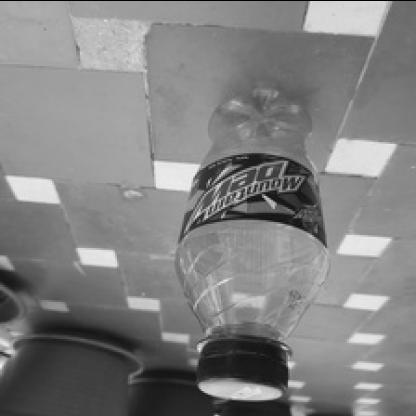plastic_bottles: (172, 81, 334, 402)
